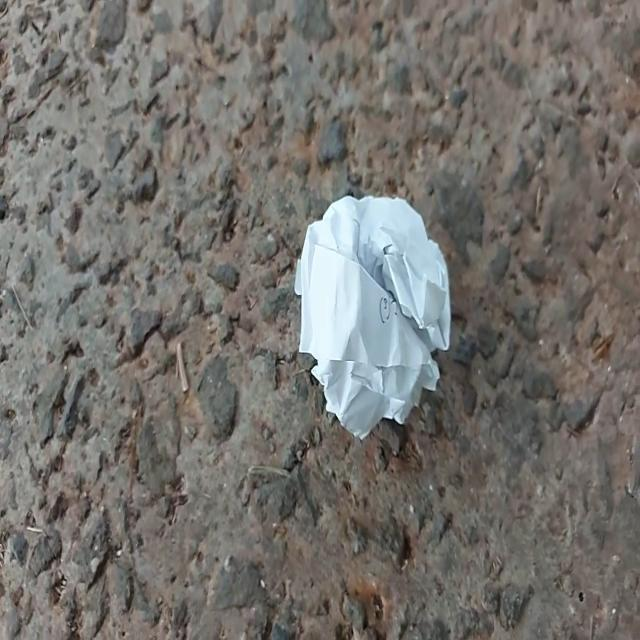Paper: (278, 173, 470, 463)
